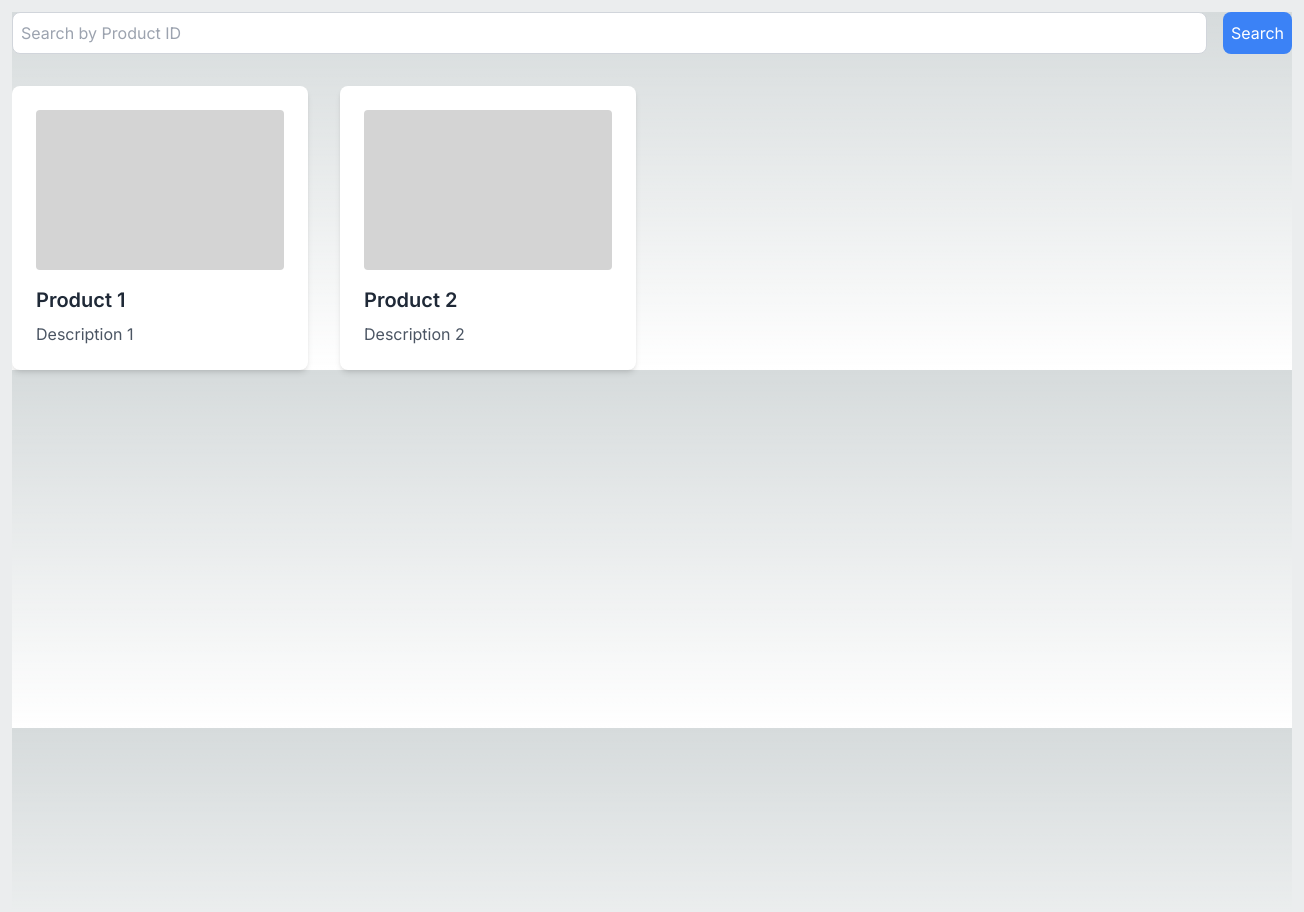
Test case: SearchComponent › searches and updates products
Step 1. Type "3" into the field with placeholder "Search by Product ID" → (609, 33), box top-left (12, 12), bottom-right (1207, 54)
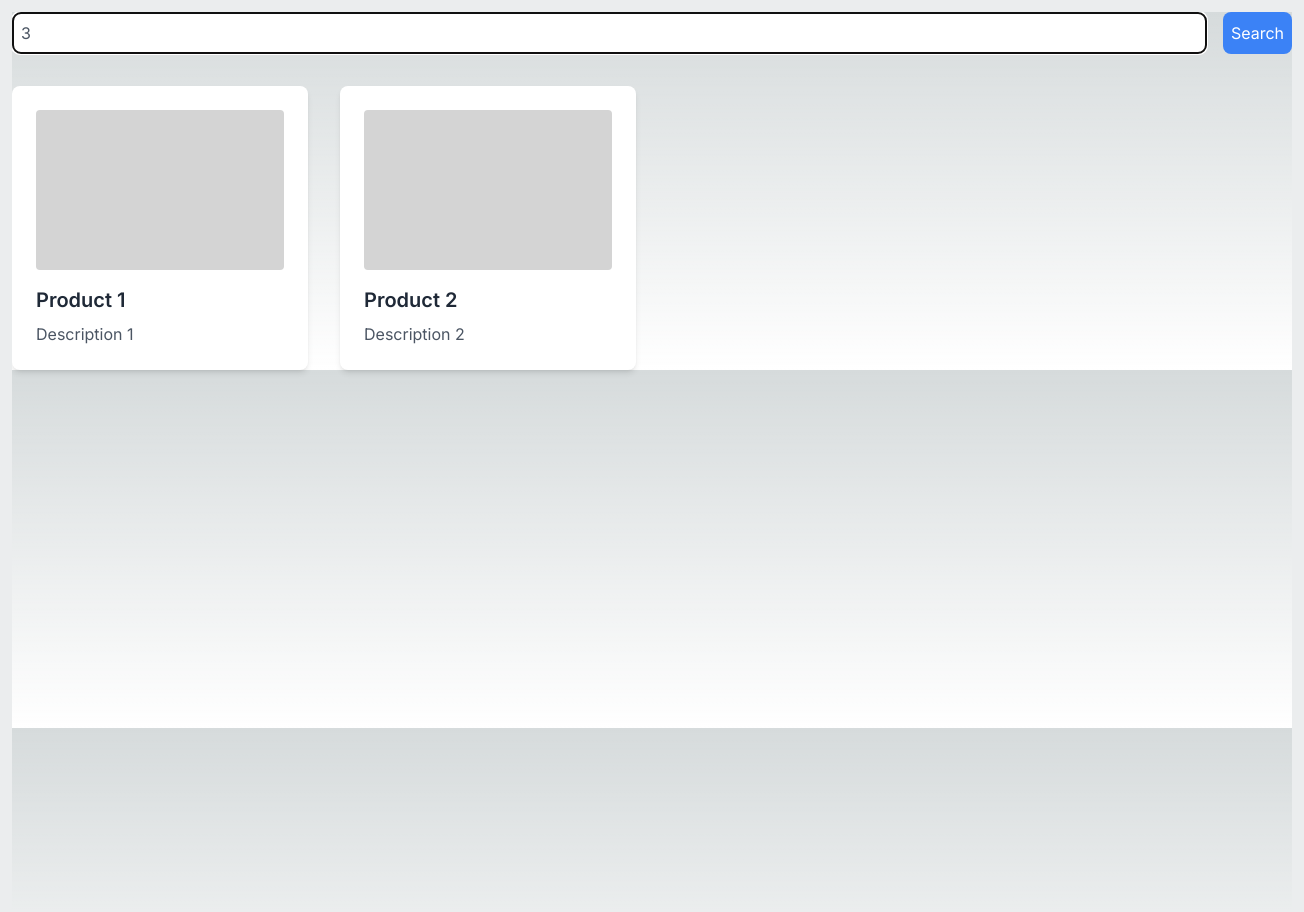
Step 2. Click the button "Search" → (1257, 33), box top-left (1223, 12), bottom-right (1292, 54)
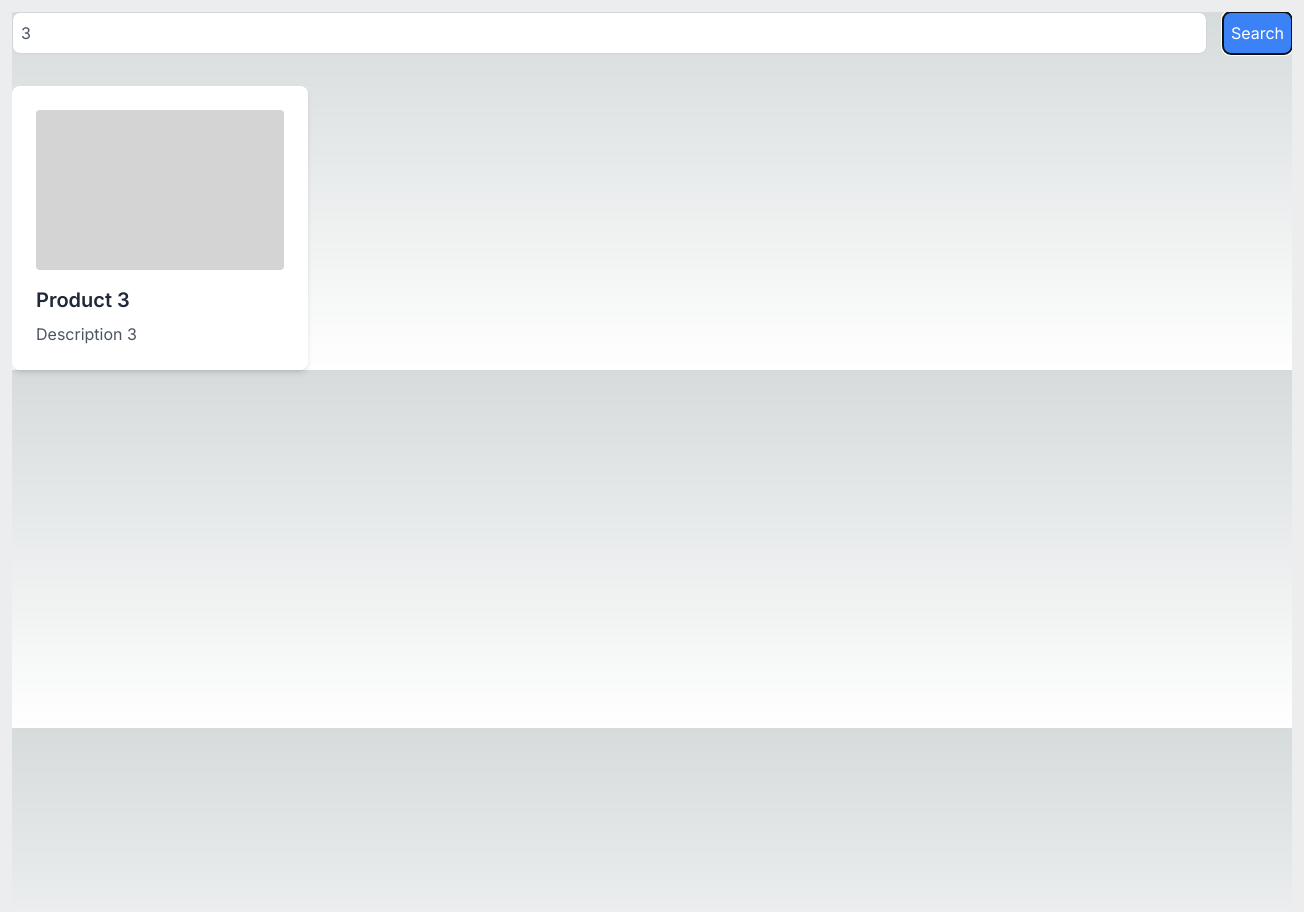
Expected: the number of headings is 1, top-left (36, 288), bottom-right (130, 312)
Expected: the heading reads "Product 3", top-left (36, 288), bottom-right (130, 312)
